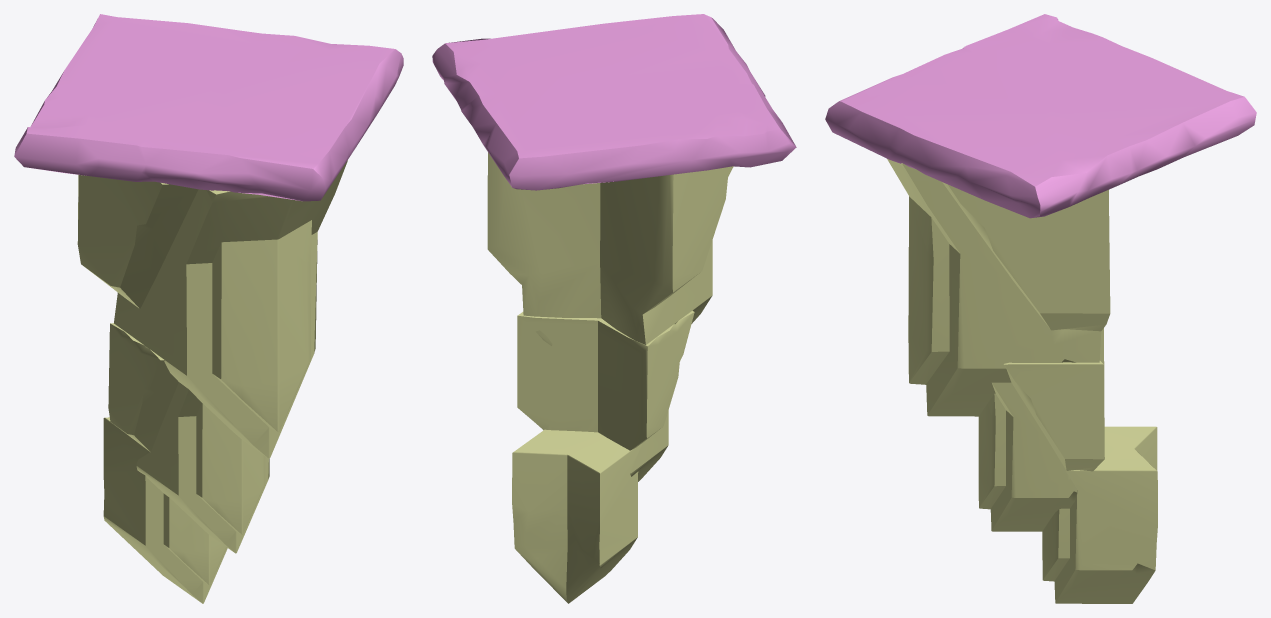
The model's file is stone_element_octagon_corner_02.fbx.
The picture shows the model from 3 angles, left to right: view 1: azimuth 30°, elevation 25°; view 2: azimuth 150°, elevation 25°; view 3: azimuth 270°, elevation 25°; orthographic projection. The views are drawn at different scales.
Parts seen in each view (by area): view 1: stone_element_octagon_corner_02_LOD0; view 2: stone_element_octagon_corner_02_LOD0; view 3: stone_element_octagon_corner_02_LOD0.
Boxes of the visible parts, x1,y1,x2,y2 form: stone_element_octagon_corner_02_LOD0: (14, 14, 403, 603); stone_element_octagon_corner_02_LOD0: (432, 14, 796, 603); stone_element_octagon_corner_02_LOD0: (825, 14, 1256, 603).
Size of what is drawn, in the model's own units: 261 by 334 by 258.
